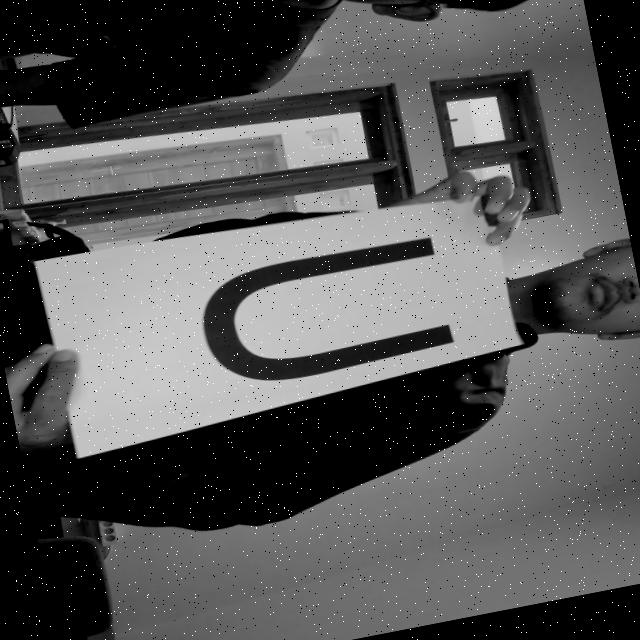u: (185, 220, 474, 404)
